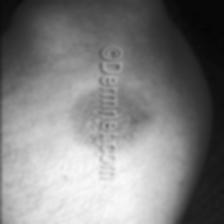Toxin: (73, 84, 153, 150)
